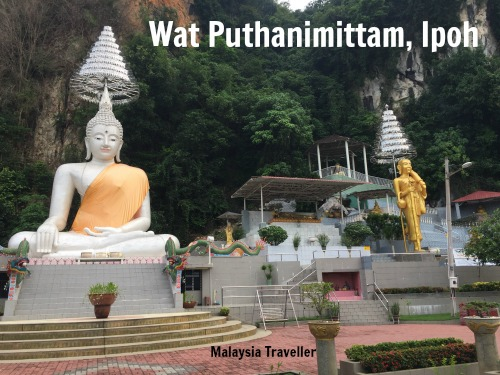Buddhist Temple: (37, 92, 168, 256)
